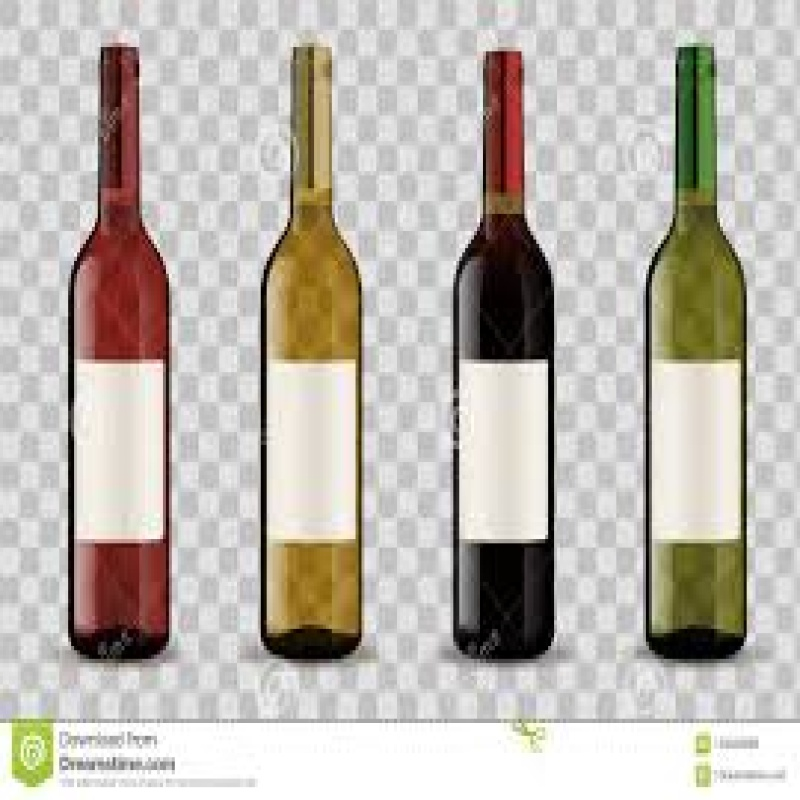wine: (645, 41, 752, 661), (264, 47, 367, 663), (73, 48, 175, 654), (460, 53, 554, 648)
